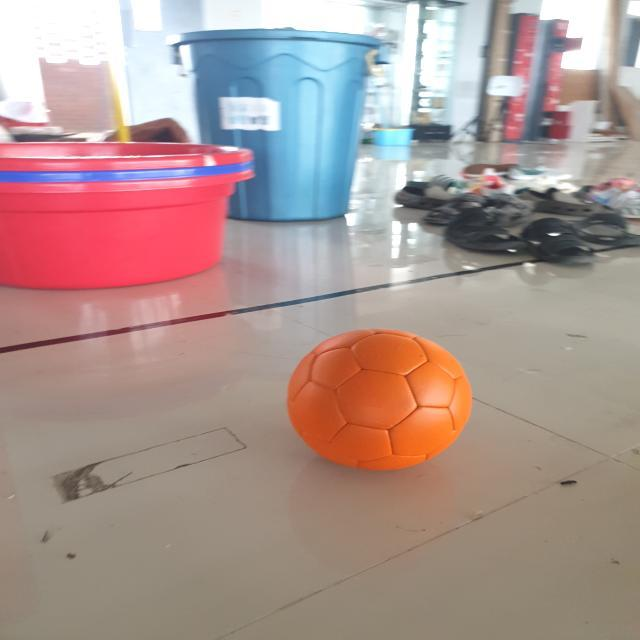bola: (280, 322, 474, 478)
